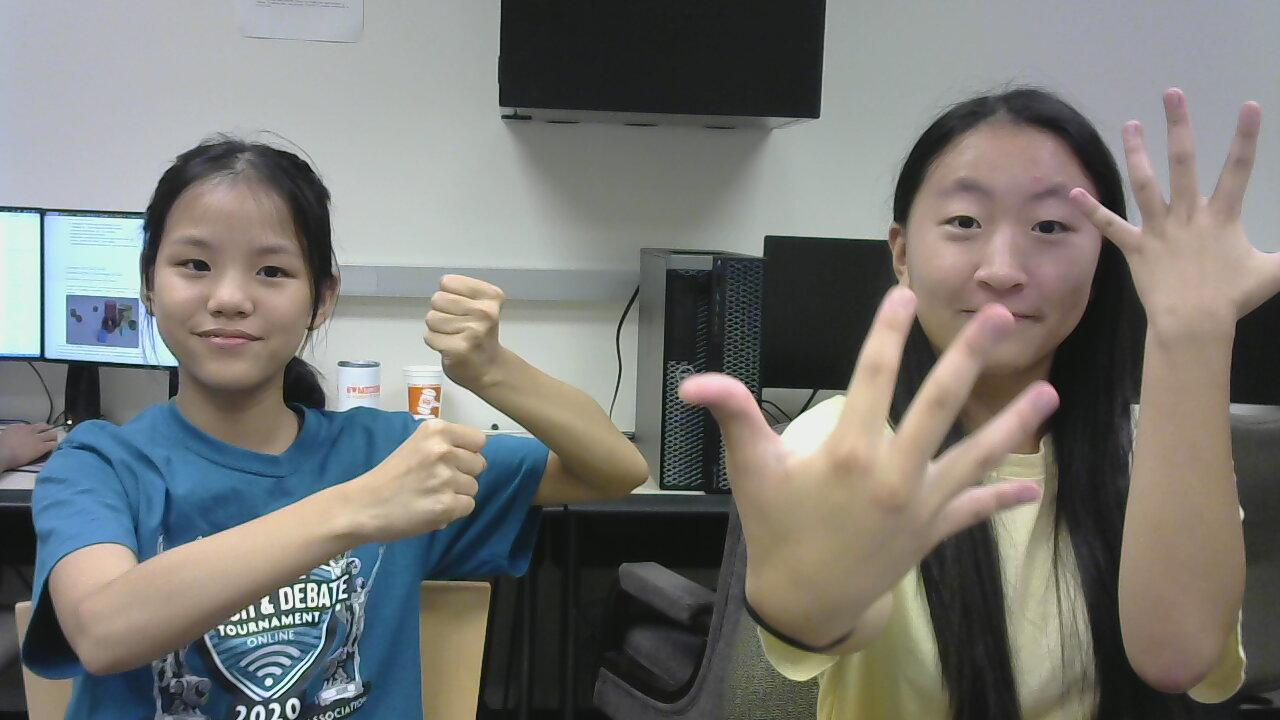fist: (398, 254, 526, 386), (383, 407, 497, 524)
hands: (671, 267, 1065, 629), (1075, 96, 1280, 349)
